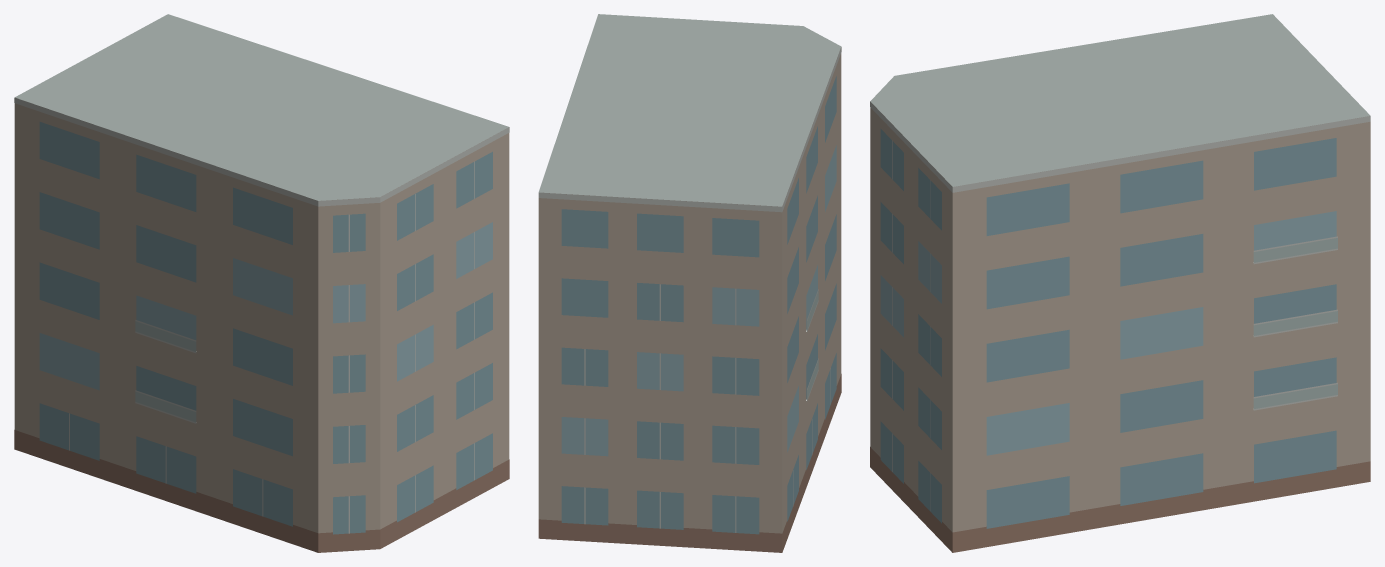
File: survey-upis-33000490.glb
3 renders of one model, left to right at view 1: azimuth 30°, elevation 25°; view 2: azimuth 150°, elevation 25°; view 3: azimuth 270°, elevation 25°, orthographic. The views are drawn at different scales.
Visible parts, largest first — view 1: survey-upis-33000490.tmp; view 2: survey-upis-33000490.tmp; view 3: survey-upis-33000490.tmp.
Boxes of the visible parts, x1,y1,x2,y2 form: survey-upis-33000490.tmp: [14, 14, 509, 552]; survey-upis-33000490.tmp: [538, 14, 841, 552]; survey-upis-33000490.tmp: [870, 14, 1370, 552].
Bounding box in the file's own units: 15.47 × 15.25 × 18.91.
